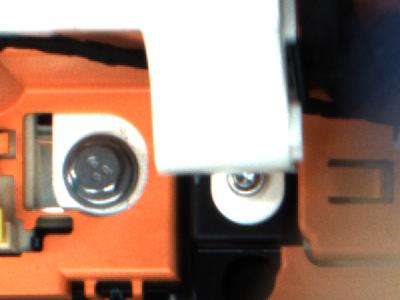nut_b: (60, 134, 139, 208)
